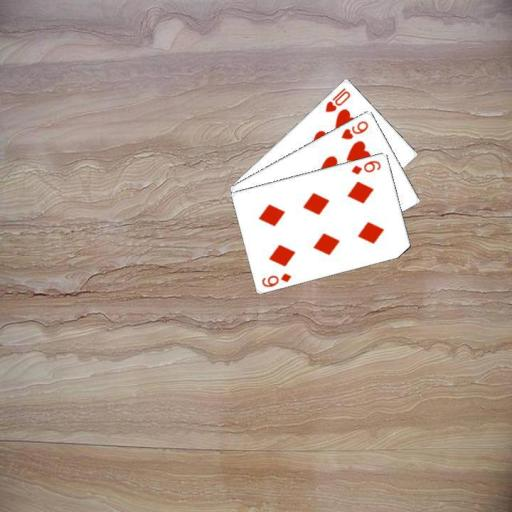10H: (322, 85, 352, 114)
6D: (349, 157, 383, 176), (259, 270, 293, 288)
9H: (338, 117, 370, 141)
